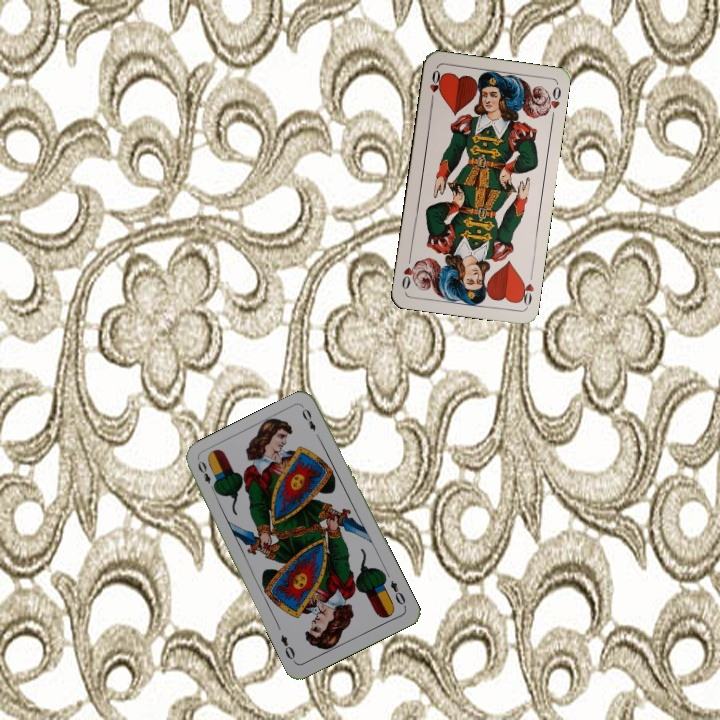EO: (194, 457, 218, 495), (386, 577, 409, 610)
HO: (515, 269, 536, 309), (426, 66, 445, 106)
